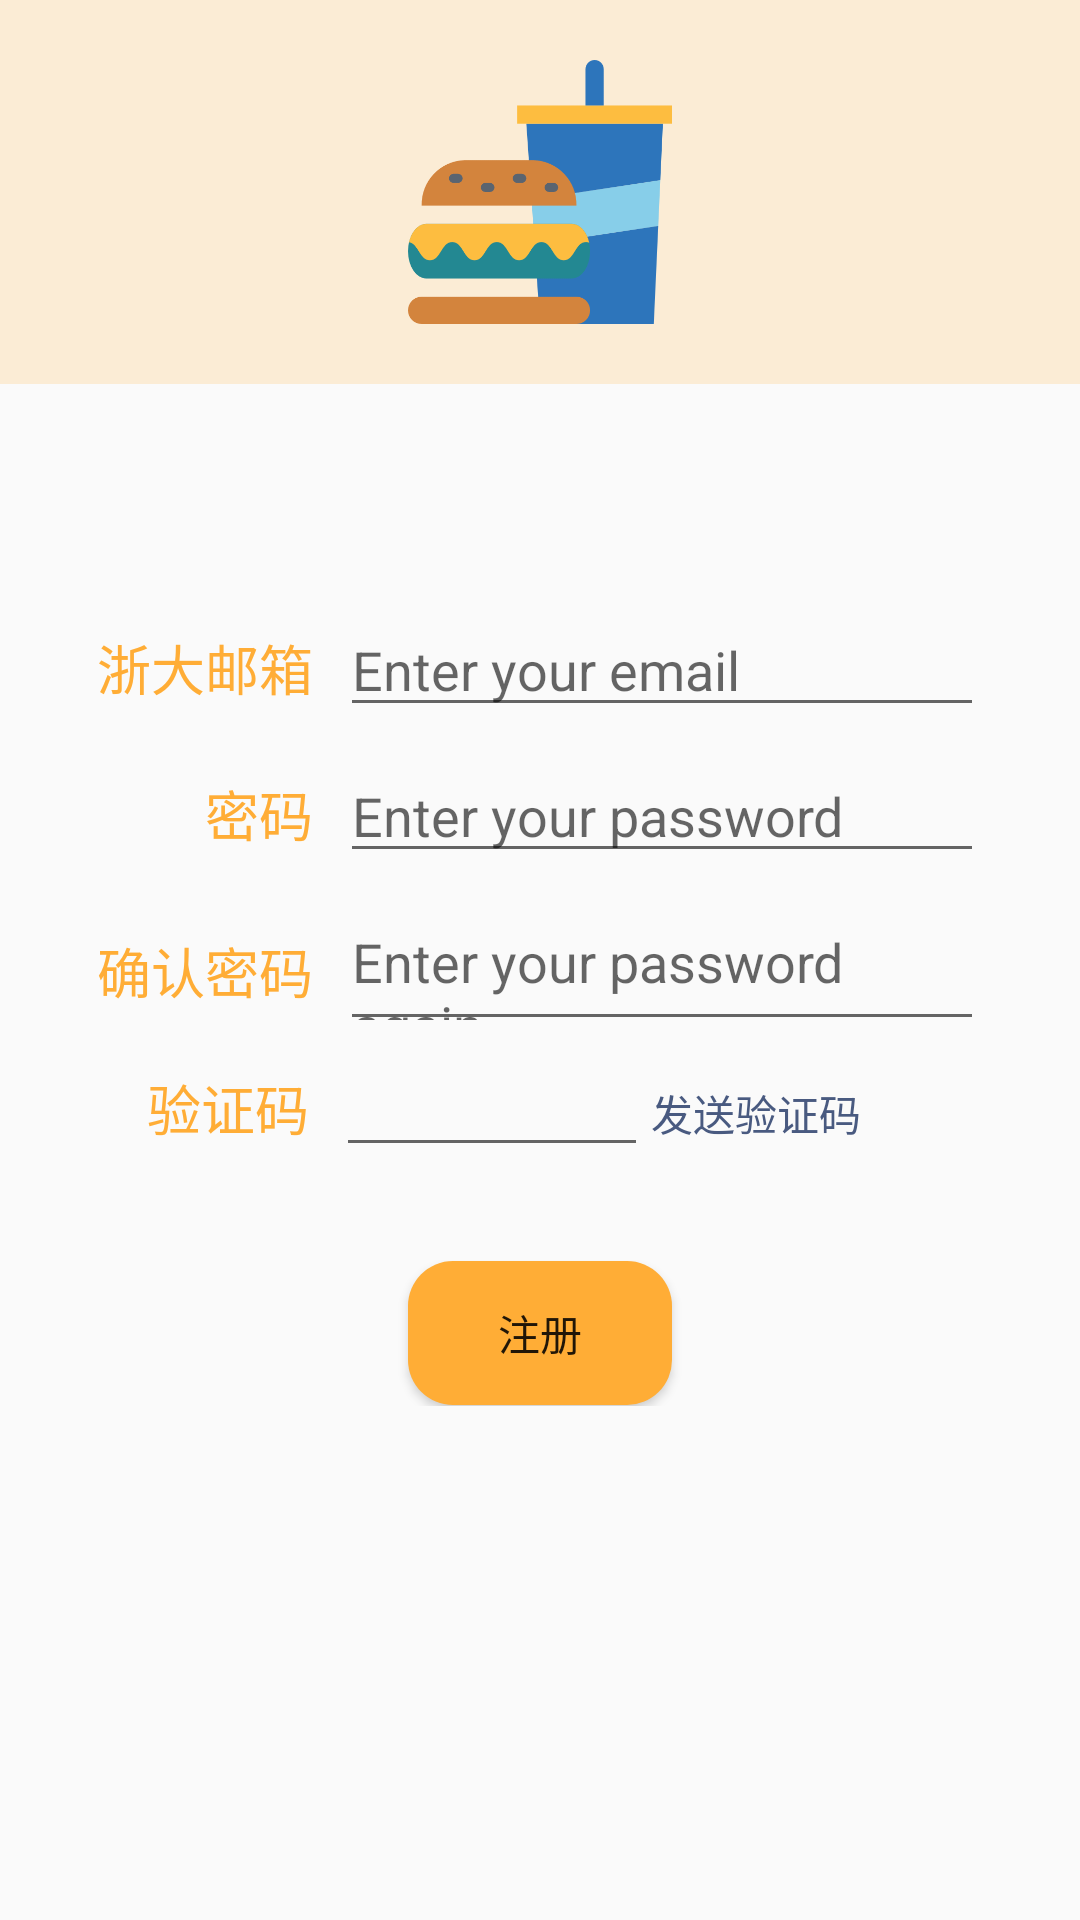

Screen size 1080 x 1920. Icon name, then its box in pixels as (x1, y1, x2, y2):
fastfood: (408, 60, 672, 324)
